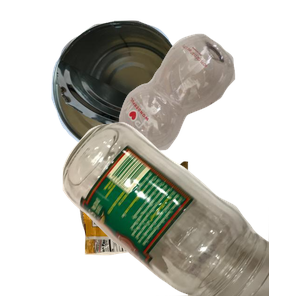glass: (60, 120, 300, 300)
metal: (49, 18, 229, 164)
plastic: (99, 31, 300, 189)
trash: (76, 159, 259, 300)
